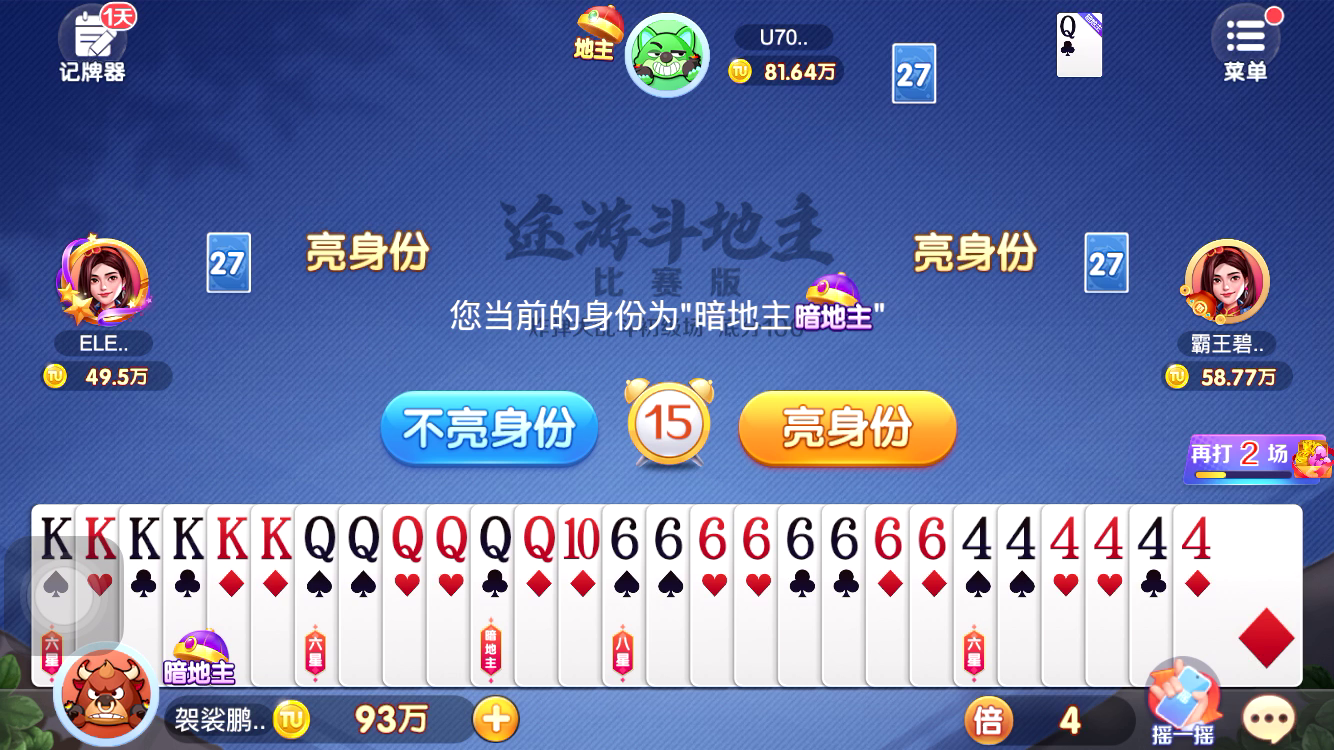K: (78, 508, 119, 563), (34, 505, 74, 561), (167, 509, 206, 566), (254, 509, 293, 566), (125, 508, 163, 566), (211, 509, 249, 566)
Q: (517, 509, 558, 567), (385, 510, 426, 566), (429, 509, 470, 565), (342, 510, 382, 567), (299, 510, 338, 567), (475, 510, 513, 568), (1057, 11, 1084, 44)
four: (955, 508, 995, 567), (999, 508, 1038, 566), (1177, 511, 1217, 567), (1044, 511, 1084, 566), (1133, 511, 1171, 567), (1089, 511, 1127, 566)
six: (650, 510, 689, 568), (606, 510, 645, 567), (782, 510, 820, 568), (826, 511, 864, 568), (869, 512, 908, 567), (737, 511, 776, 566), (911, 512, 950, 566), (693, 512, 732, 566)
ten: (560, 510, 601, 567)
